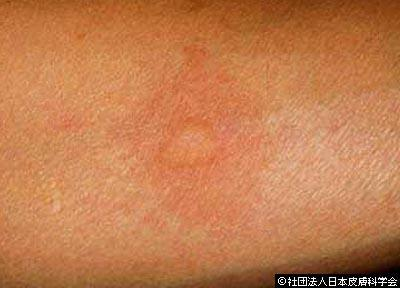Mosquito: (154, 112, 227, 181)
